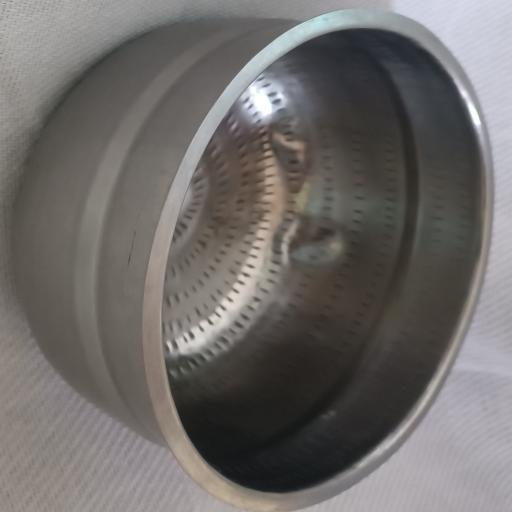vessel: (14, 10, 492, 512)
